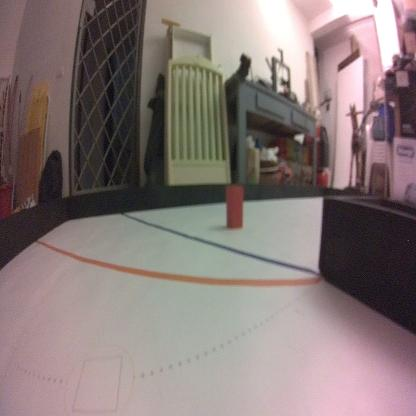red: (225, 182, 244, 230)
